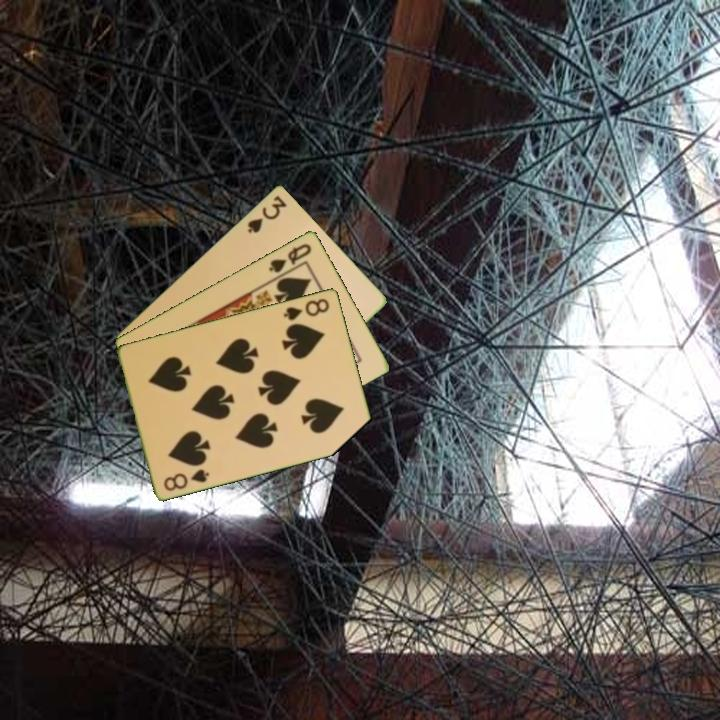3s: (244, 192, 290, 236)
8s: (160, 465, 212, 494), (280, 295, 332, 323)
Qs: (265, 239, 314, 275)
